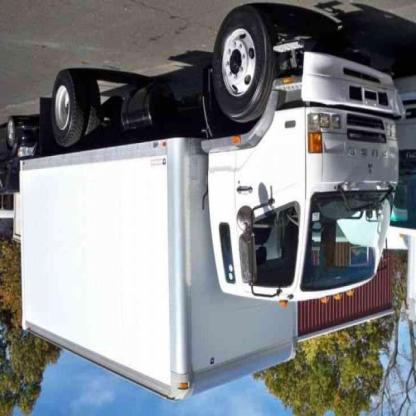truck: (23, 11, 407, 403)
